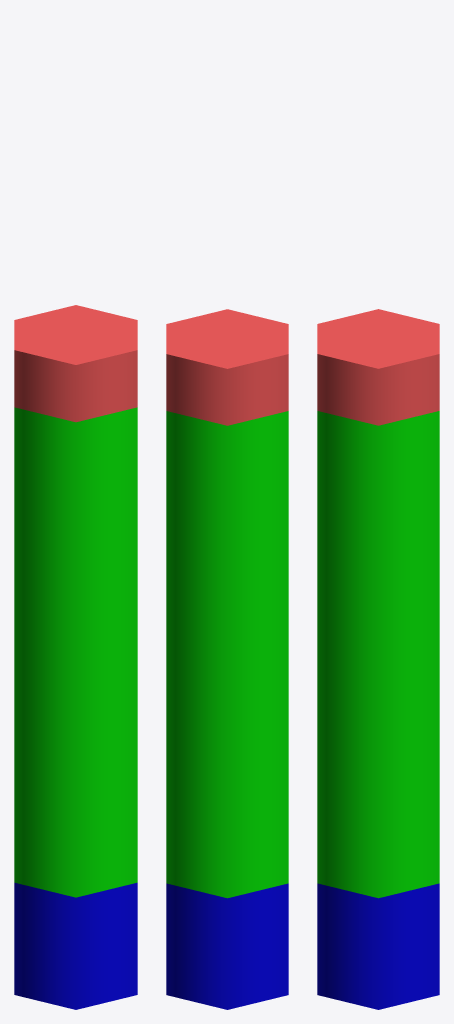
The model's file is ConfettiAnimation.gltf.
3 views of the same model, side by side, from view 1: azimuth 30°, elevation 25°; view 2: azimuth 210°, elevation 25°; view 3: azimuth 270°, elevation 25° (orthographic).
Visible parts, largest first — view 1: Cylinder002; view 2: Cylinder002; view 3: Cylinder002.
Part boxes in pixels (<box>): Cylinder002: <box>14,305,137,1009</box>; Cylinder002: <box>166,309,288,1009</box>; Cylinder002: <box>317,309,439,1009</box>.
Size of what is drawn, in the model's own units: 0.048 by 0.3606 by 0.0416.
